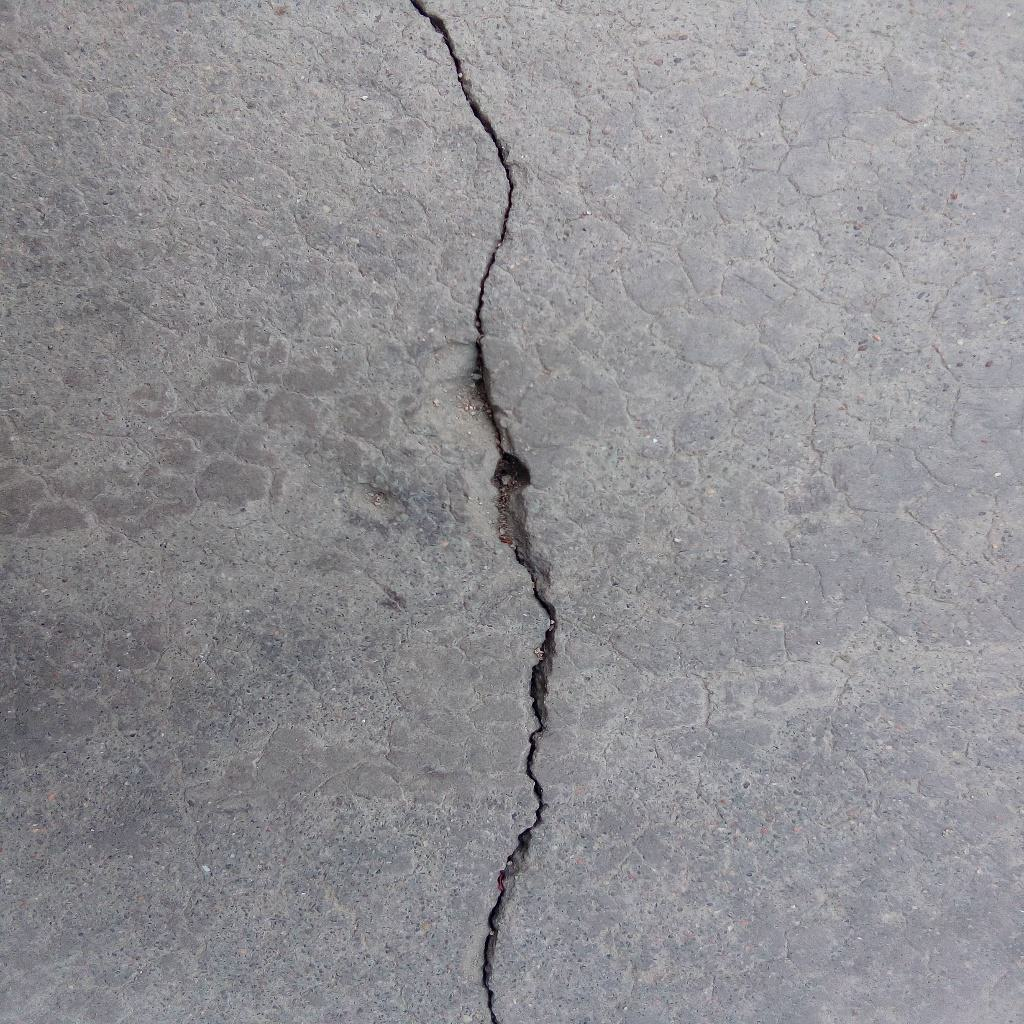Crack: (404, 1, 558, 1024)
